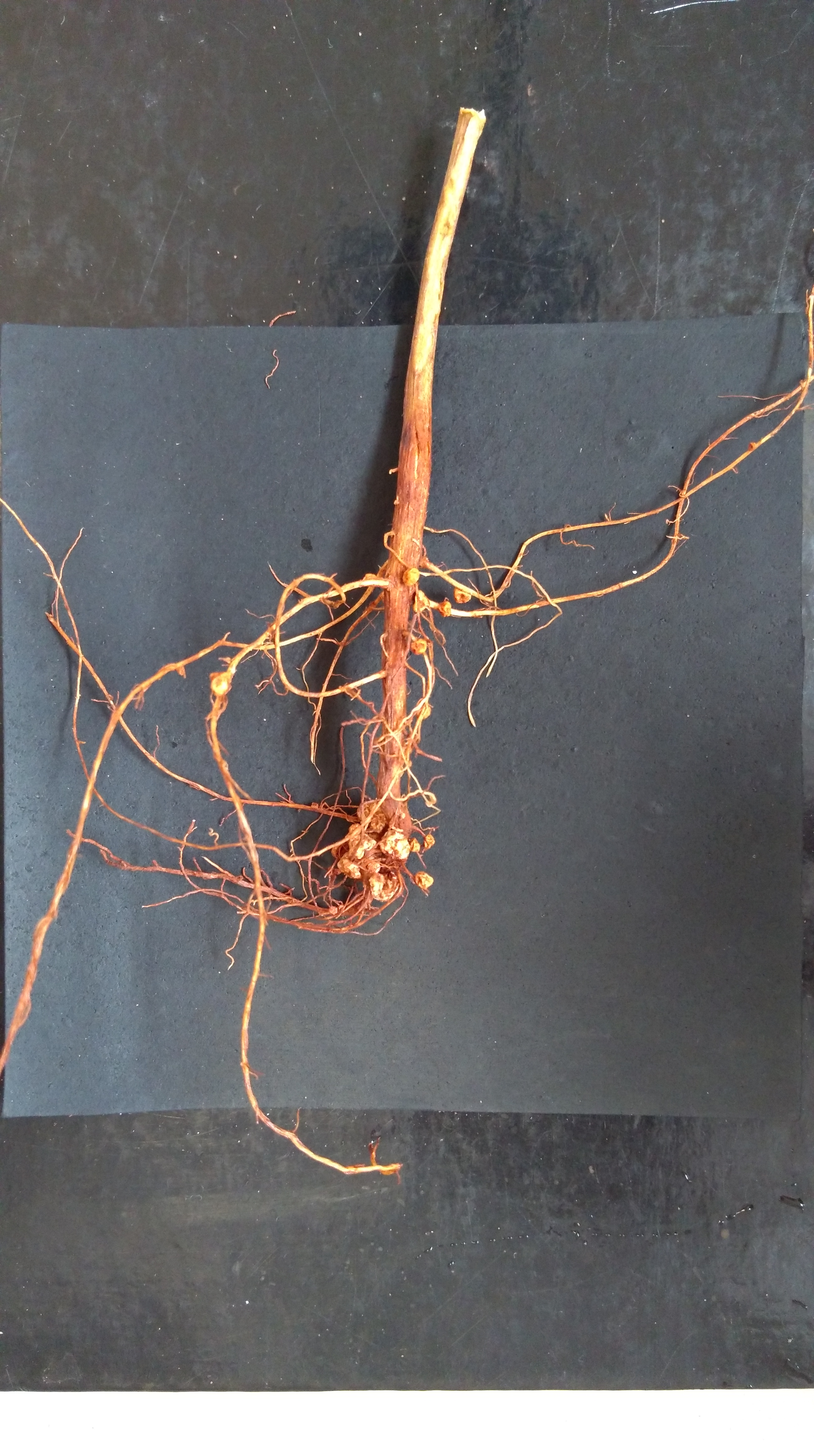nodule: (344, 823, 378, 860), (367, 871, 401, 903), (378, 829, 411, 860), (207, 670, 235, 696), (335, 857, 364, 882), (355, 799, 381, 824), (410, 588, 430, 616), (330, 839, 354, 860), (401, 566, 421, 588), (413, 870, 435, 890), (409, 637, 429, 657), (368, 812, 386, 833), (453, 586, 472, 604), (360, 572, 383, 585), (437, 600, 453, 618), (414, 703, 432, 719), (407, 836, 421, 853), (366, 861, 383, 873), (424, 834, 436, 849), (747, 440, 758, 452)
